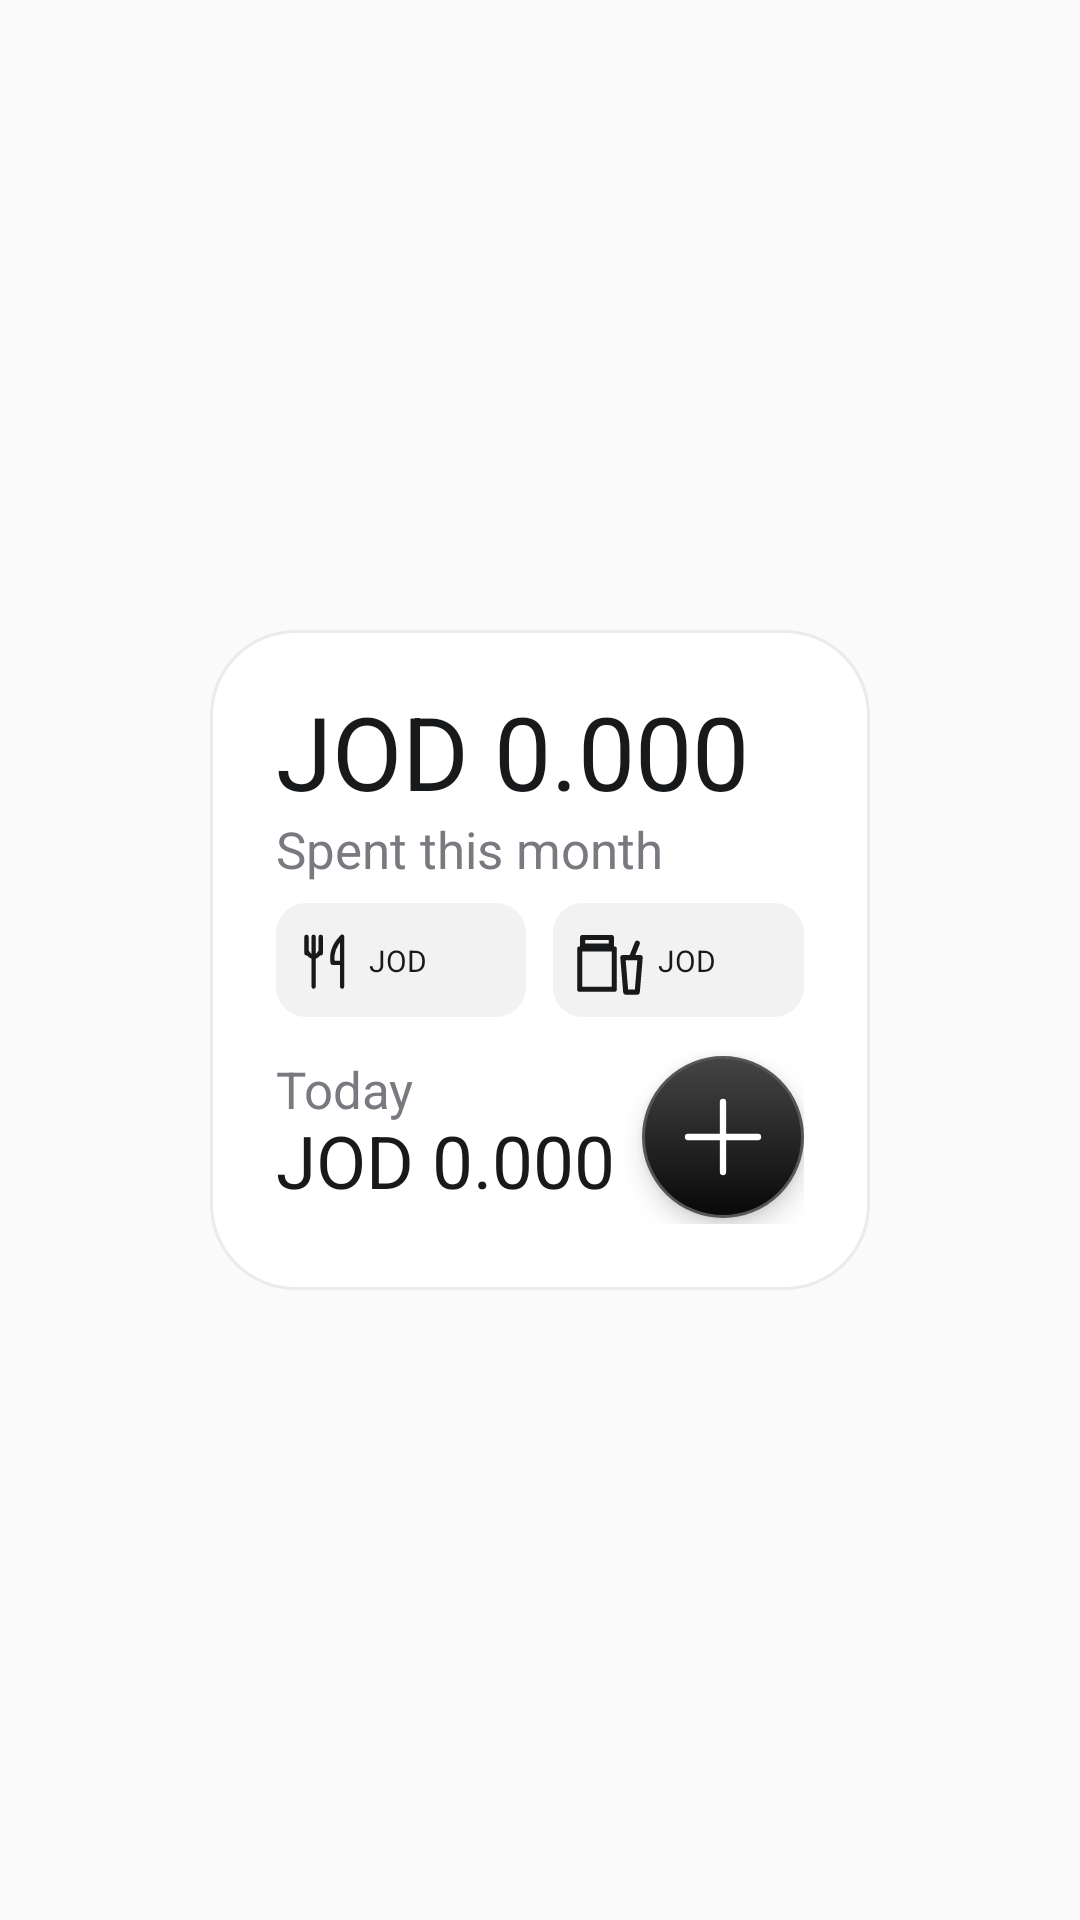

Where icons sit on this 1080×1920 app screen, as (x1, y1, x2, y2):
Add expense: (642, 1056, 804, 1218)
Dining out: (304, 934, 345, 989)
Groceries: (577, 935, 643, 995)
